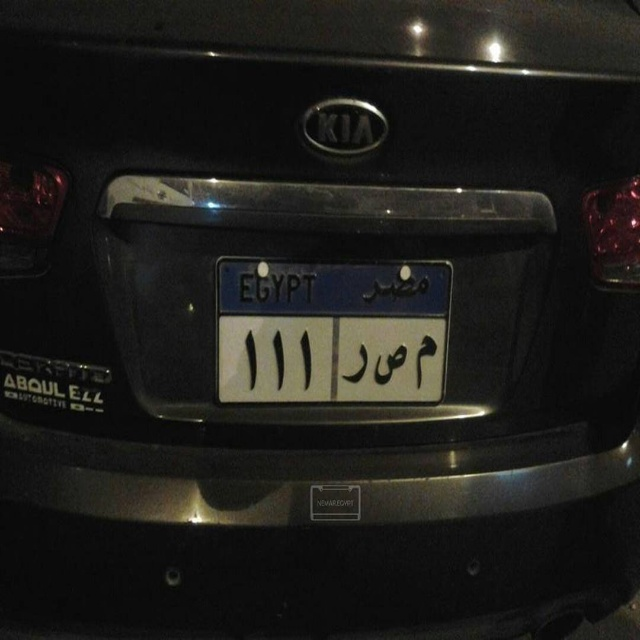License Plate: (212, 250, 457, 412)
